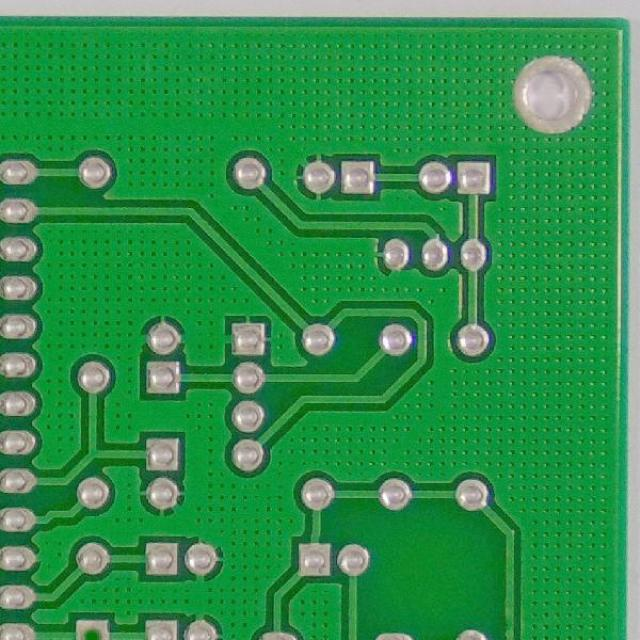Missing_Hole: (73, 612, 115, 640)
